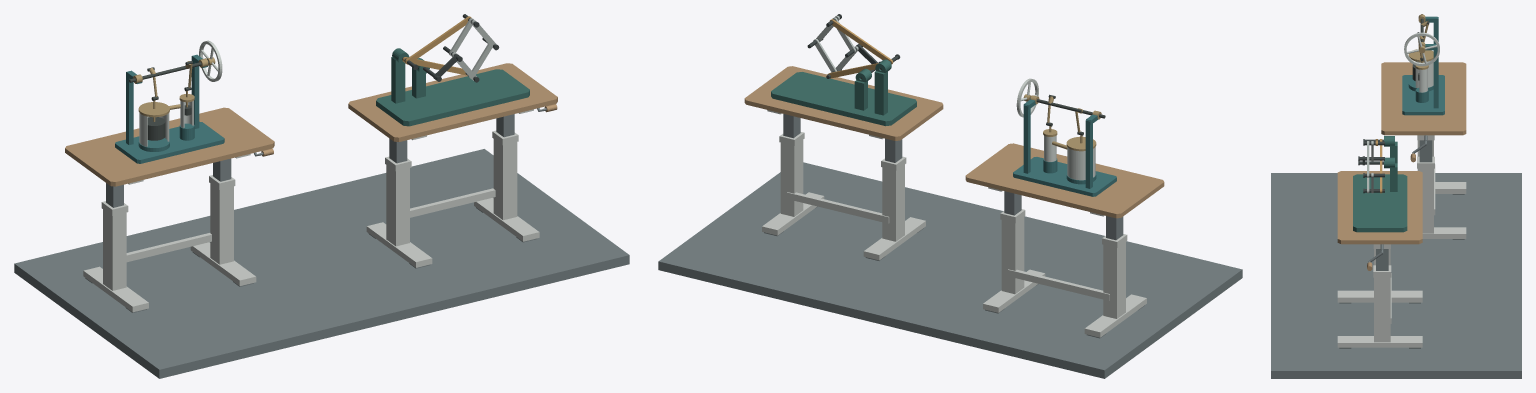
3 renders of one model, left to right at view 1: azimuth 30°, elevation 25°; view 2: azimuth 150°, elevation 25°; view 3: azimuth 270°, elevation 25°, orthographic. The views are drawn at different scales.
Parts seen in each view (by area): view 1: SceneOnlyTeachingFloor__SceneOnlyViewingBayFloor, deskleft__WholeLevelWritingTop, inversor__WholeBroadChamferedBase, deskright__WholeLevelWritingTop, deskright__WholeOpenUpperOuterColumn_1, deskleft__WholeOpenUpperOuterColumn_-1, deskright__WholeOpenUpperOuterColumn_-1, deskleft__WholeOpenUpperOuterColumn_1, gamma__WholeChamferedBase, deskright__WholeLongTGroundFoot_-1, deskleft__WholeLongTGroundFoot_-1, deskleft__WholeLongTGroundFoot_1 (+5 smaller); view 2: SceneOnlyTeachingFloor__SceneOnlyViewingBayFloor, deskleft__WholeLevelWritingTop, deskright__WholeLevelWritingTop, inversor__WholeBroadChamferedBase, gamma__WholeChamferedBase, deskright__WholeOpenUpperOuterColumn_-1, deskleft__WholeOpenUpperOuterColumn_-1, deskleft__WholeOpenUpperOuterColumn_1, deskright__WholeOpenUpperOuterColumn_1, deskright__WholeLowerRearCrossTie, deskleft__WholeLowerRearCrossTie, deskright__WholeLongTGroundFoot_-1 (+7 smaller); view 3: SceneOnlyTeachingFloor__SceneOnlyViewingBayFloor, deskleft__WholeLevelWritingTop, deskright__WholeLevelWritingTop, inversor__WholeBroadChamferedBase, gamma__WholeChamferedBase, deskright__WholeOpenUpperOuterColumn_1, deskright__WholeLongTGroundFoot_1, deskright__WholeLongTGroundFoot_-1, deskleft__WholeOpenUpperOuterColumn_1, deskleft__WholeLongTGroundFoot_1, deskleft__WholeLongTGroundFoot_-1, gamma__WholeFlywheelRim (+4 smaller).
Boxes of the visible parts, <box> form: SceneOnlyTeachingFloor__SceneOnlyViewingBayFloor: <box>14,149,629,378</box>; deskleft__WholeLevelWritingTop: <box>65,107,274,186</box>; inversor__WholeBroadChamferedBase: <box>376,69,529,126</box>; deskright__WholeLevelWritingTop: <box>348,63,557,141</box>; deskright__WholeOpenUpperOuterColumn_1: <box>493,139,517,220</box>; deskleft__WholeOpenUpperOuterColumn_-1: <box>103,209,126,290</box>; deskright__WholeOpenUpperOuterColumn_-1: <box>386,165,409,246</box>; deskleft__WholeOpenUpperOuterColumn_1: <box>210,183,233,264</box>; gamma__WholeChamferedBase: <box>115,121,224,163</box>; deskright__WholeLongTGroundFoot_-1: <box>366,222,432,267</box>; deskleft__WholeLongTGroundFoot_-1: <box>83,266,148,312</box>; deskleft__WholeLongTGroundFoot_1: <box>190,242,256,285</box>; SceneOnlyTeachingFloor__SceneOnlyViewingBayFloor: <box>658,162,1242,378</box>; deskleft__WholeLevelWritingTop: <box>965,143,1164,218</box>; deskright__WholeLevelWritingTop: <box>744,66,943,140</box>; inversor__WholeBroadChamferedBase: <box>771,72,916,126</box>; gamma__WholeChamferedBase: <box>1013,157,1116,196</box>; deskright__WholeOpenUpperOuterColumn_-1: <box>882,164,904,241</box>; deskleft__WholeOpenUpperOuterColumn_-1: <box>1103,242,1125,318</box>; deskleft__WholeOpenUpperOuterColumn_1: <box>1001,217,1024,294</box>; deskright__WholeOpenUpperOuterColumn_1: <box>780,140,803,216</box>; deskright__WholeLowerRearCrossTie: <box>787,192,889,223</box>; deskleft__WholeLowerRearCrossTie: <box>1008,269,1109,300</box>; deskright__WholeLongTGroundFoot_-1: <box>863,217,925,260</box>; SceneOnlyTeachingFloor__SceneOnlyViewingBayFloor: <box>1271,173,1521,378</box>; deskleft__WholeLevelWritingTop: <box>1381,62,1466,135</box>; deskright__WholeLevelWritingTop: <box>1337,171,1422,244</box>; inversor__WholeBroadChamferedBase: <box>1353,174,1407,232</box>; gamma__WholeChamferedBase: <box>1402,75,1444,115</box>; deskright__WholeOpenUpperOuterColumn_1: <box>1374,277,1390,342</box>; deskright__WholeLongTGroundFoot_1: <box>1337,336,1422,347</box>; deskright__WholeLongTGroundFoot_-1: <box>1337,290,1422,302</box>; deskleft__WholeOpenUpperOuterColumn_1: <box>1417,168,1433,233</box>; deskleft__WholeLongTGroundFoot_1: <box>1422,227,1466,238</box>; deskleft__WholeLongTGroundFoot_-1: <box>1435,182,1466,193</box>; gamma__WholeFlywheelRim: <box>1404,32,1439,66</box>.
Bounding box in the file's own units: 4.3 × 2.09 × 2.3.
